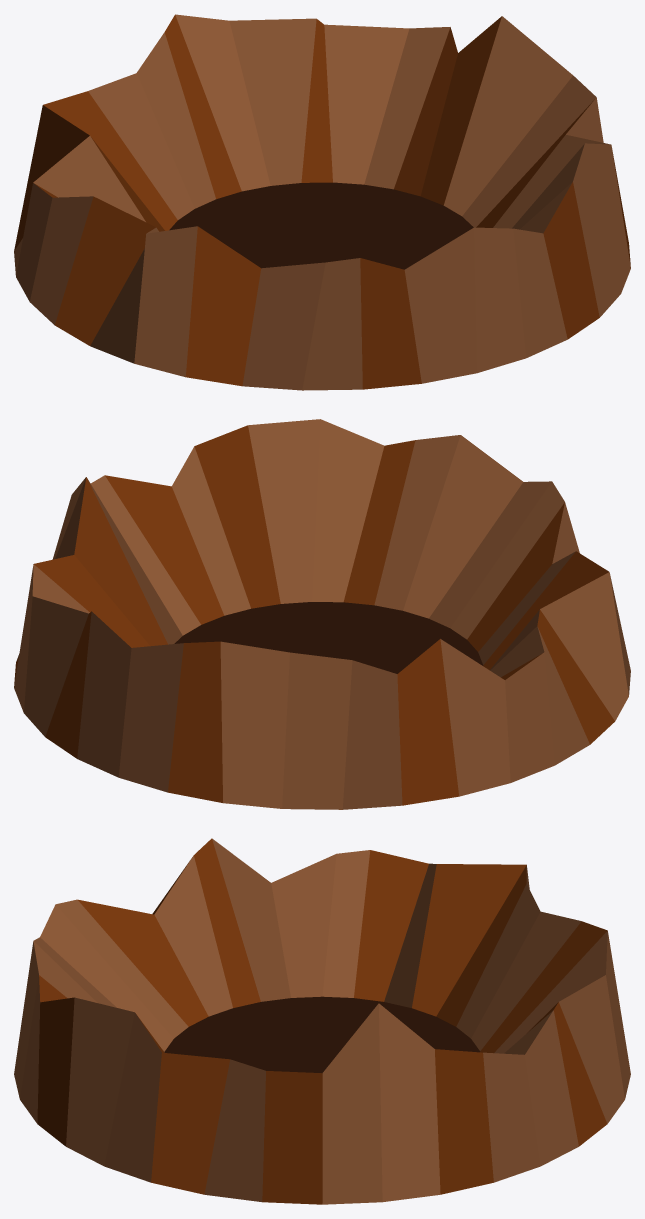
File: Hole.fbx
3 renders of one model, top to bottom at view 1: azimuth 30°, elevation 25°; view 2: azimuth 150°, elevation 25°; view 3: azimuth 270°, elevation 25°, orthographic.
Parts seen in each view (by area): view 1: Cylinder; view 2: Cylinder; view 3: Cylinder.
Boxes of the visible parts, x1=… form: Cylinder: x1=14, y1=14, x2=630, y2=390; Cylinder: x1=14, y1=419, x2=630, y2=809; Cylinder: x1=14, y1=838, x2=630, y2=1204.
Bounding box in the file's own units: 200 × 61.68 × 200.
